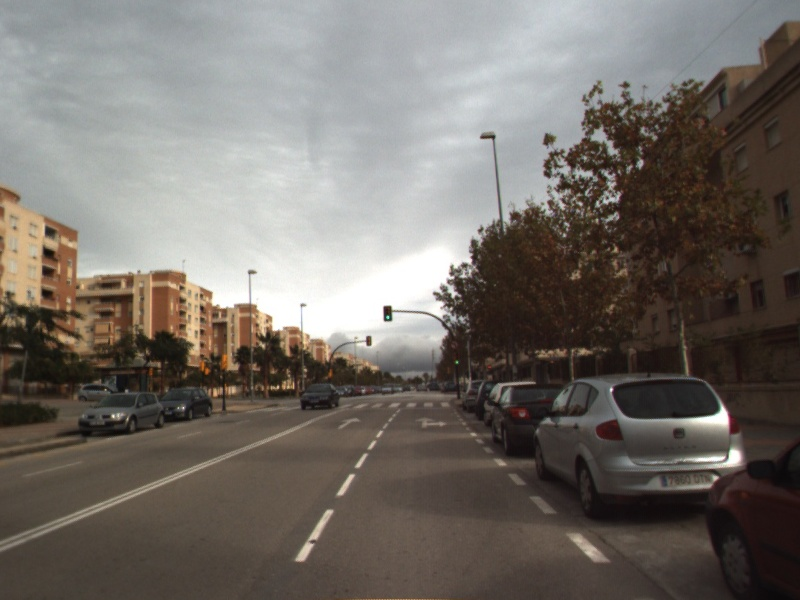STRAIGHT: (335, 415, 363, 431)
STRAIGHT_RIGHT: (413, 415, 450, 430)
